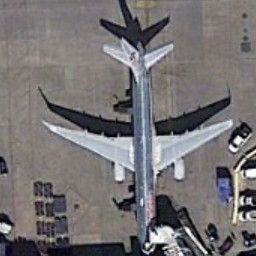Airplane: (32, 28, 246, 256)
